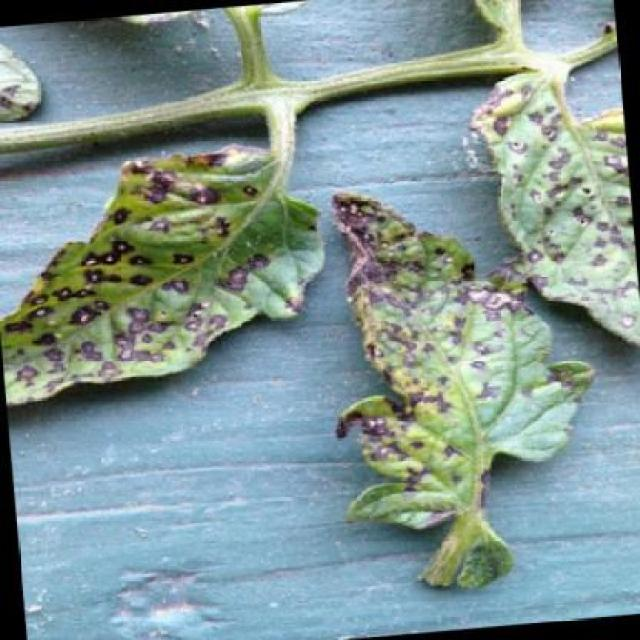Septoria leaf spot: (310, 155, 598, 618), (1, 139, 327, 415)
